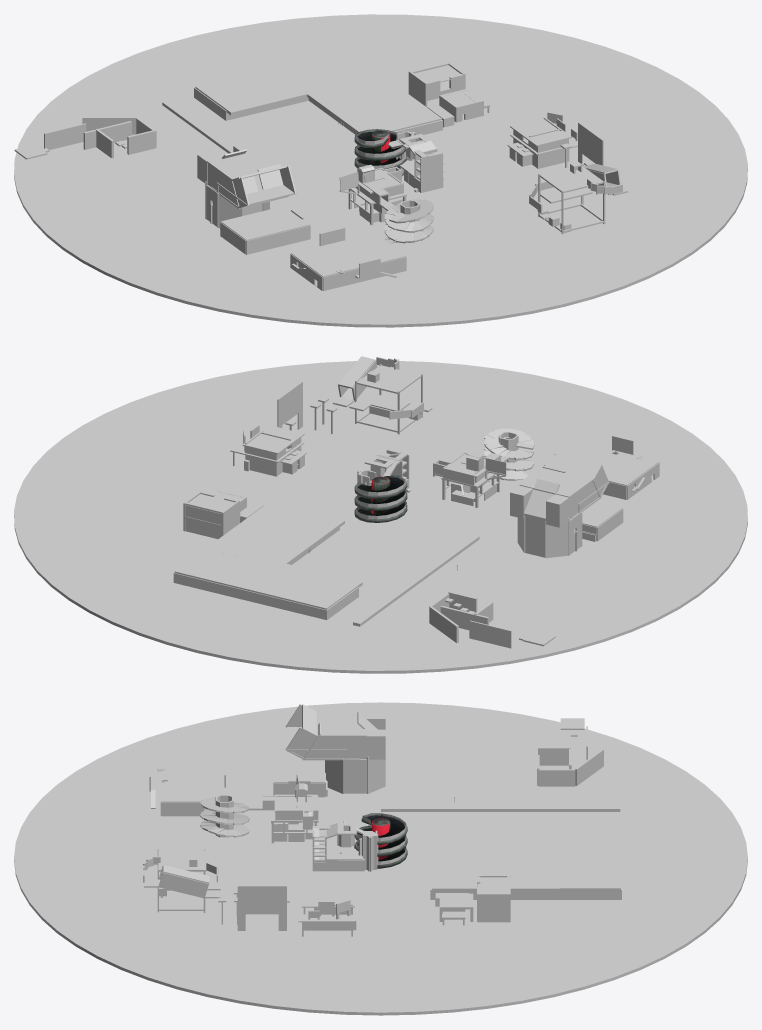
The model's file is parking_garage.glb.
The picture shows the model from 3 angles, top to bottom: view 1: azimuth 30°, elevation 25°; view 2: azimuth 150°, elevation 25°; view 3: azimuth 270°, elevation 25°; orthographic projection.
Parts seen in each view (by area): view 1: MeshInstance3D310, MeshInstance3D297, MeshInstance3D299, MeshInstance3D426, tower, MeshInstance3D442, MeshInstance3D330, MeshInstance3D329, MeshInstance3D340, MeshInstance3D30, MeshInstance3D405, MeshInstance3D172 (+12 smaller); view 2: MeshInstance3D310, MeshInstance3D297, MeshInstance3D299, tower, MeshInstance3D296, MeshInstance3D329, MeshInstance3D117, MeshInstance3D442, MeshInstance3D389, MeshInstance3D30, MeshInstance3D330, MeshInstance3D172 (+16 smaller); view 3: MeshInstance3D310, MeshInstance3D297, MeshInstance3D299, MeshInstance3D329, MeshInstance3D117, MeshInstance3D113, tower, MeshInstance3D295, MeshInstance3D426, MeshInstance3D442, MeshInstance3D441, MeshInstance3D384 (+14 smaller).
Part boxes in pixels (x1,y1,x2,y2): MeshInstance3D310: [14, 14, 747, 327]; MeshInstance3D297: [195, 49, 377, 115]; MeshInstance3D299: [302, 72, 441, 133]; MeshInstance3D426: [221, 206, 309, 240]; tower: [354, 129, 406, 176]; MeshInstance3D442: [207, 149, 280, 181]; MeshInstance3D330: [294, 246, 359, 276]; MeshInstance3D329: [291, 233, 402, 266]; MeshInstance3D340: [323, 257, 406, 290]; MeshInstance3D30: [540, 166, 603, 192]; MeshInstance3D405: [246, 225, 310, 254]; MeshInstance3D172: [510, 117, 571, 146]; MeshInstance3D310: [14, 361, 747, 673]; MeshInstance3D297: [174, 549, 362, 609]; MeshInstance3D299: [205, 502, 344, 567]; tower: [354, 475, 407, 522]; MeshInstance3D296: [175, 573, 328, 619]; MeshInstance3D329: [544, 444, 655, 485]; MeshInstance3D117: [353, 534, 479, 626]; MeshInstance3D442: [519, 468, 594, 497]; MeshInstance3D389: [184, 502, 224, 538]; MeshInstance3D30: [356, 365, 421, 393]; MeshInstance3D330: [602, 452, 658, 483]; MeshInstance3D172: [242, 425, 304, 454]; MeshInstance3D310: [14, 702, 747, 1015]; MeshInstance3D297: [549, 814, 620, 889]; MeshInstance3D299: [432, 851, 559, 889]; MeshInstance3D329: [167, 761, 225, 802]; MeshInstance3D117: [381, 805, 620, 811]; MeshInstance3D113: [237, 885, 286, 914]; tower: [354, 813, 407, 868]; MeshInstance3D295: [430, 888, 621, 899]; MeshInstance3D426: [274, 751, 324, 782]; MeshInstance3D442: [316, 711, 366, 736]; MeshInstance3D441: [303, 737, 366, 759]; MeshInstance3D384: [477, 893, 510, 922].
Bounding box in the file's own units: 460 × 59.07 × 460.
5 materials, 1 textured.
